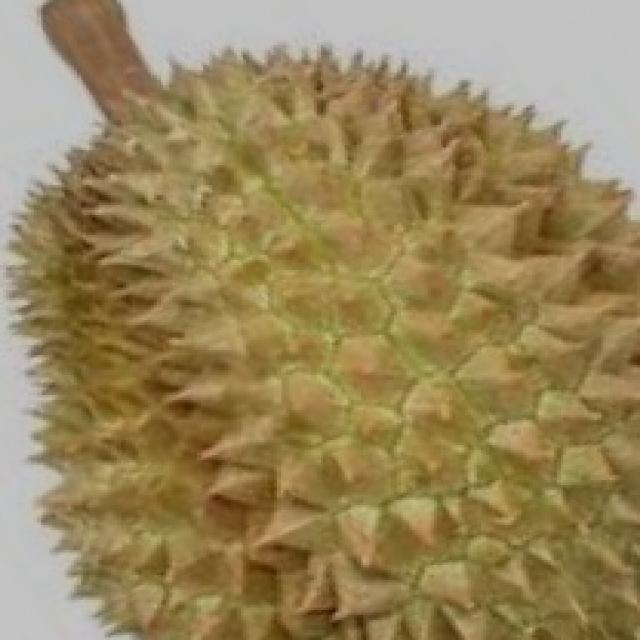fruit: (0, 232, 354, 640)
